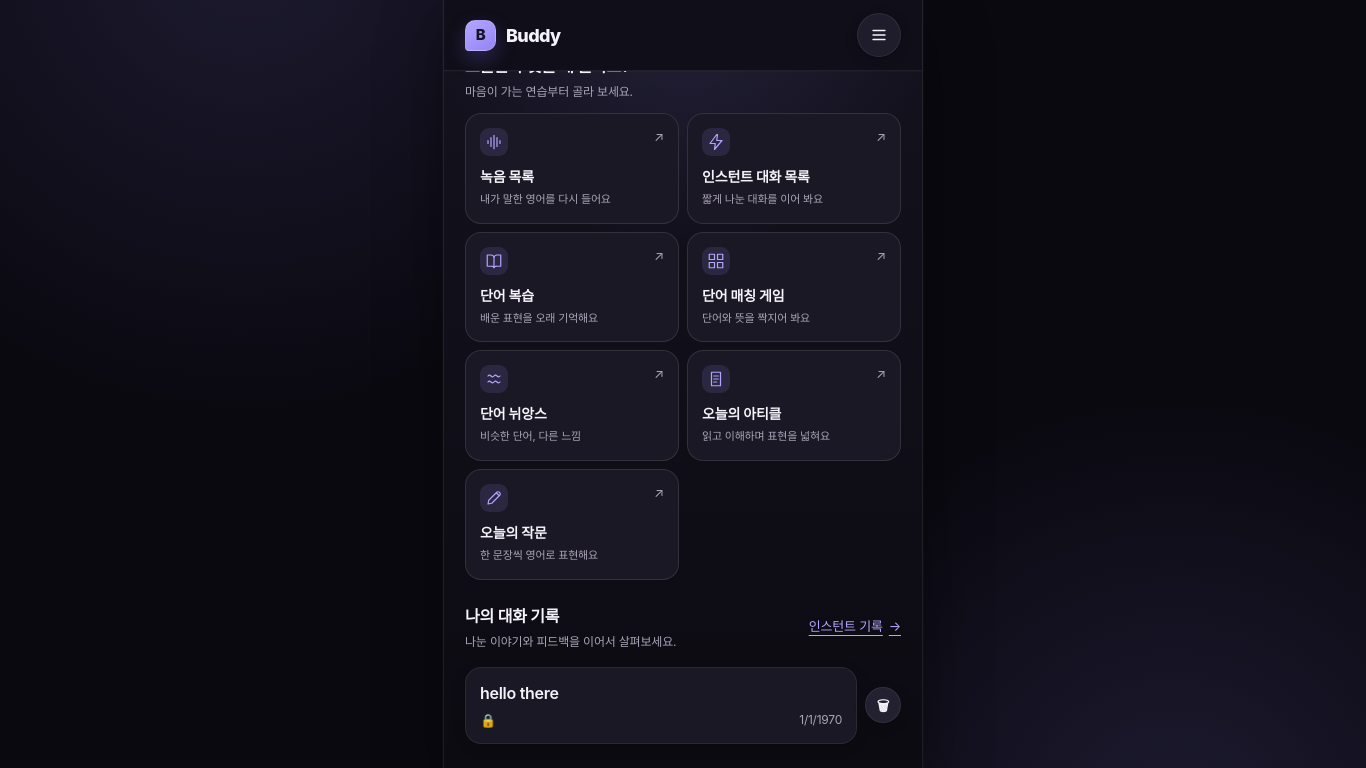
room list › falls back to checkQuizAnswer for an answer not already listed, and accepts it when the server confirms it
The width and height of the screenshot is (1366, 768).
(page scrolled)
Click the text "hello there" at (519, 693), box [480,683,559,703]
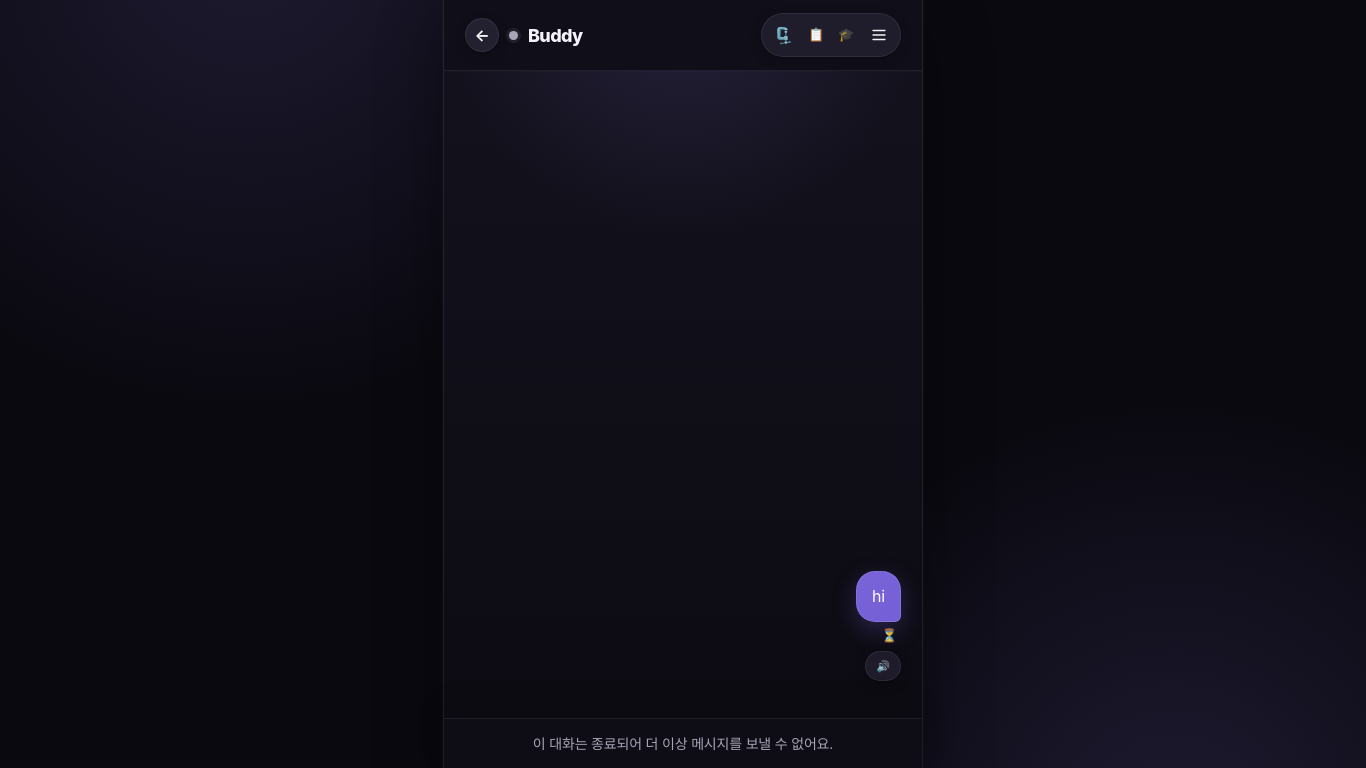
Check: the text "hi" is shown, box [856,571,901,622]
Click the button named "대화 종료" at (846, 35), box [832,21,860,49]
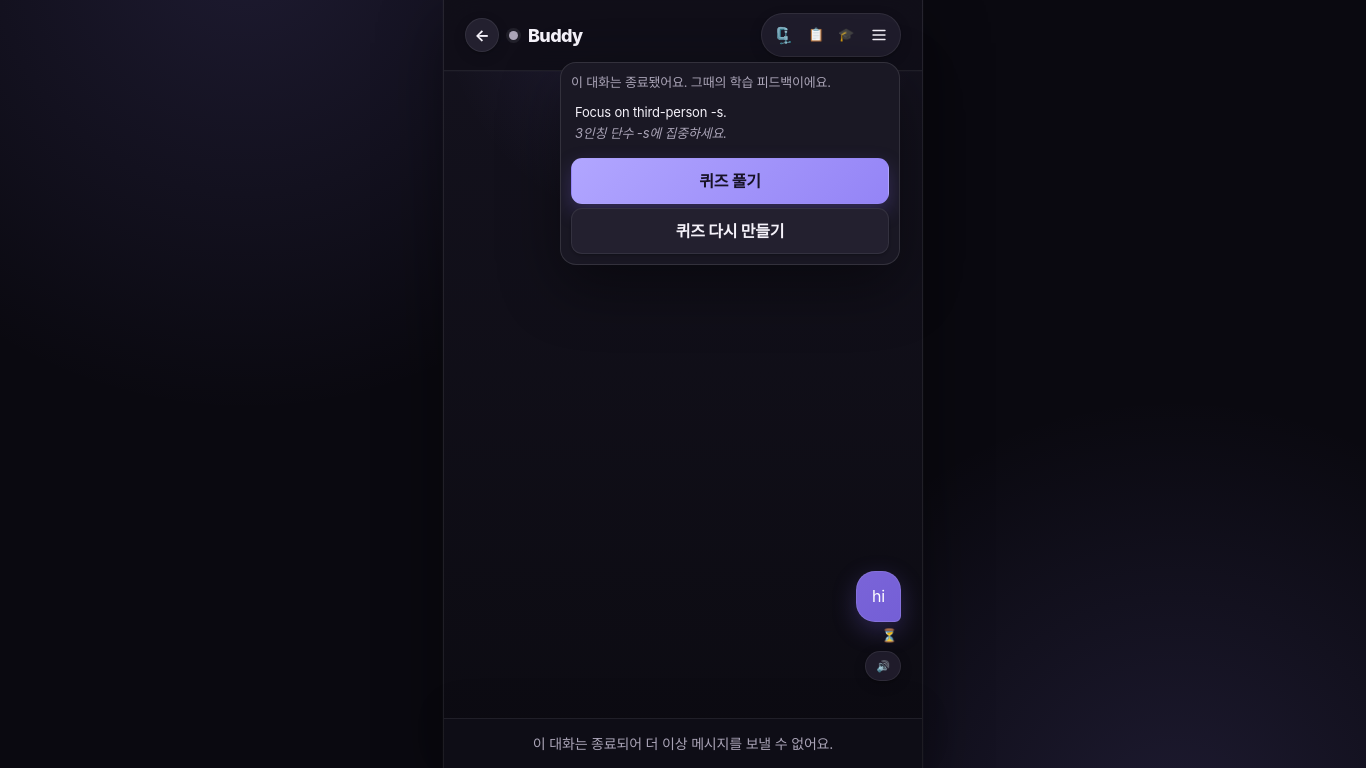
Click the button "퀴즈 풀기" at (730, 180), box [571,158,889,204]
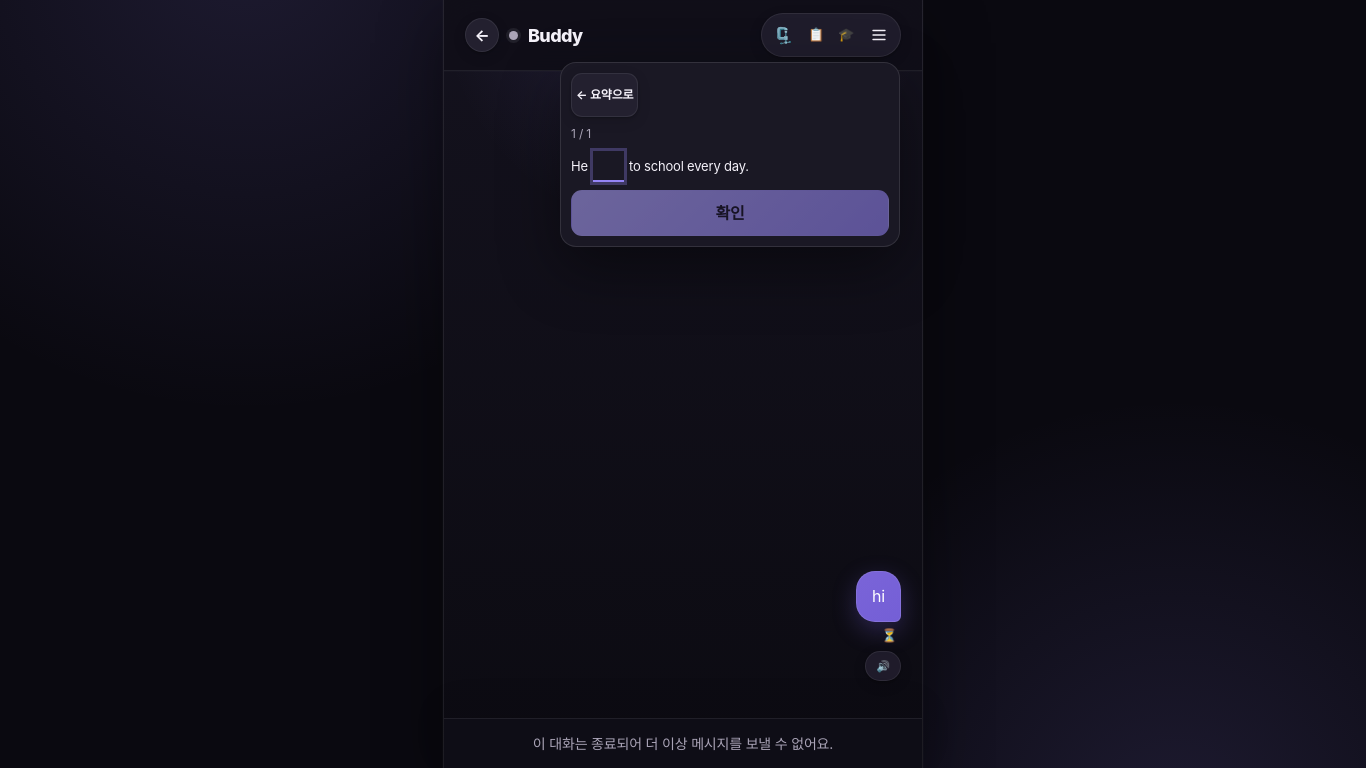
Check: the text "to school every day." is shown, box [626,158,749,174]
Type "commutes" into the field named "정답 입력" at (608, 166), box [593,151,624,182]
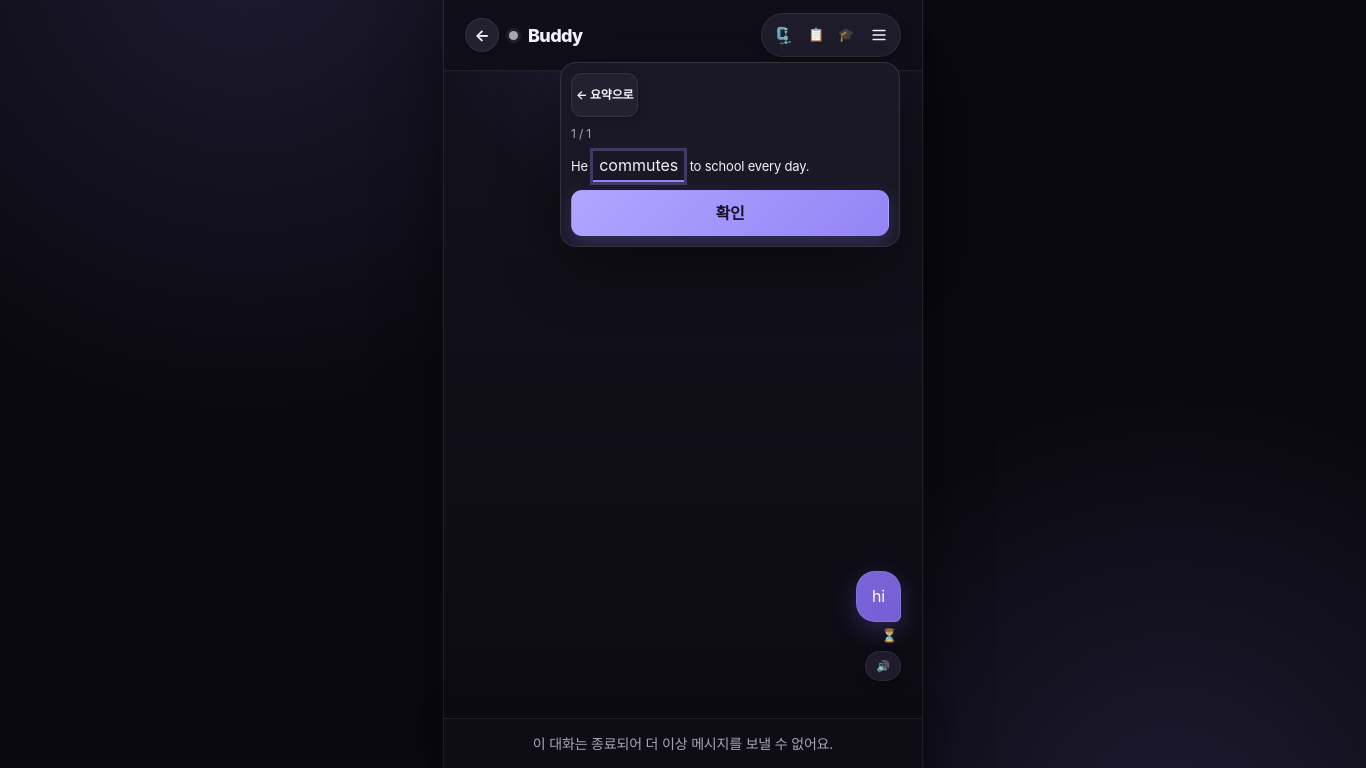
Click the button "확인" at (730, 213), box [571,190,889,236]
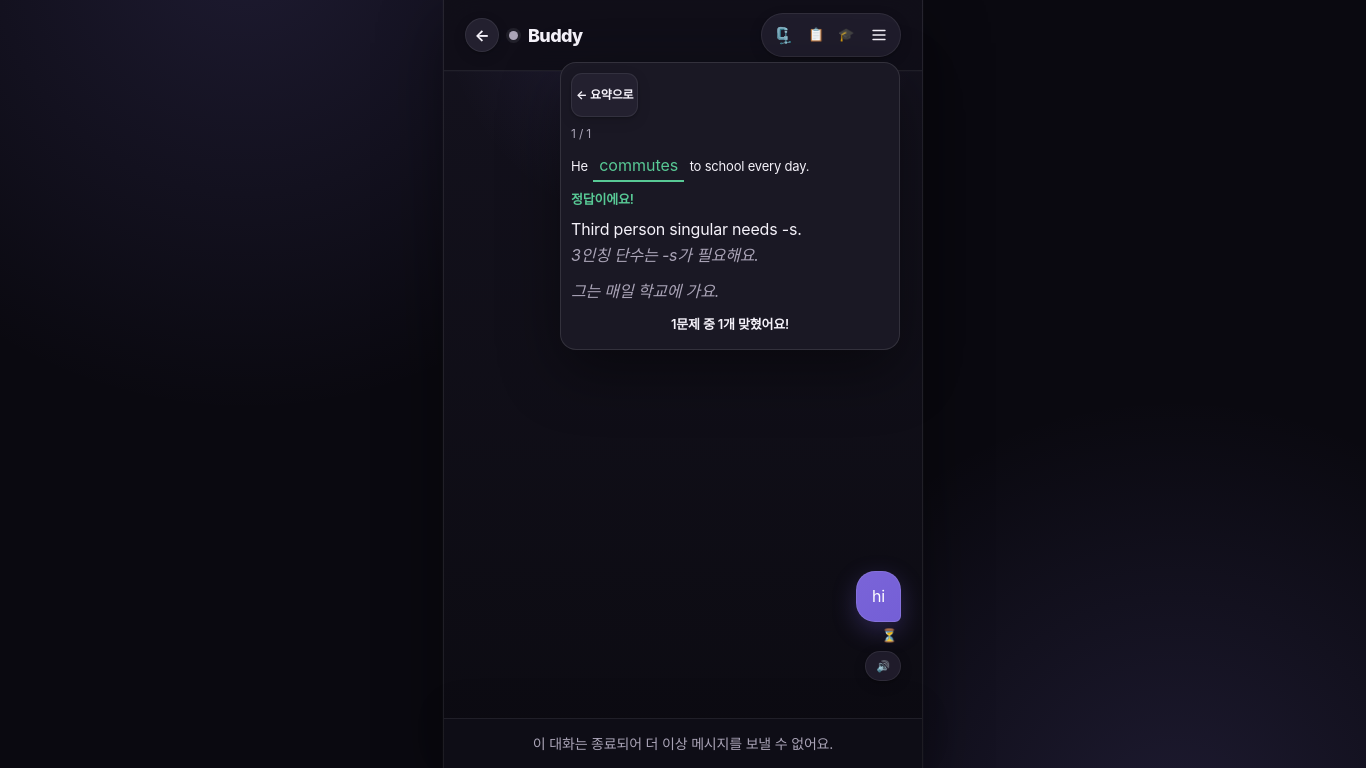
Check: the text "정답이에요!" is shown, box [571,191,634,207]
